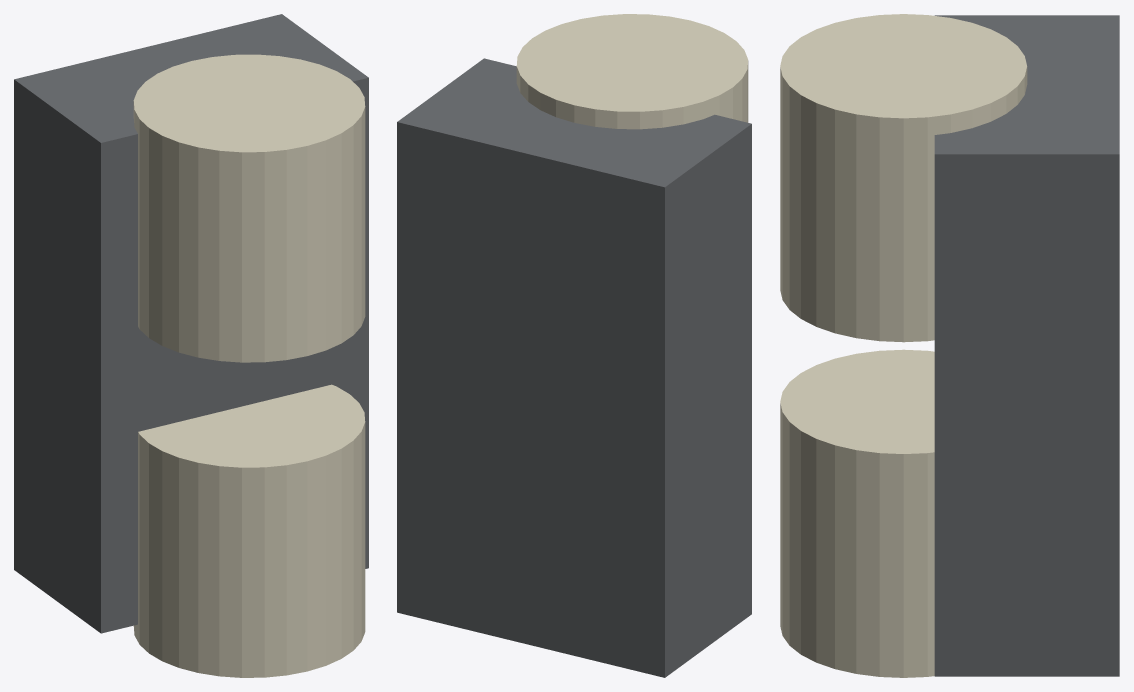
The model's file is wall-sconce-updown.glb.
The picture shows the model from 3 angles, left to right: view 1: azimuth 30°, elevation 25°; view 2: azimuth 150°, elevation 25°; view 3: azimuth 270°, elevation 25°; orthographic projection. The views are drawn at different scales.
Parts seen in each view (by area): view 1: wall-sconce-updown-0, wall-sconce-updown-1, wall-sconce-updown-2; view 2: wall-sconce-updown-0, wall-sconce-updown-1; view 3: wall-sconce-updown-0, wall-sconce-updown-1, wall-sconce-updown-2.
Boxes of the visible parts, left/top/right/bottom form: wall-sconce-updown-0: left=14, top=14, right=368, bottom=633; wall-sconce-updown-1: left=133, top=54, right=365, bottom=362; wall-sconce-updown-2: left=133, top=384, right=365, bottom=677; wall-sconce-updown-0: left=397, top=58, right=751, bottom=677; wall-sconce-updown-1: left=516, top=14, right=748, bottom=129; wall-sconce-updown-0: left=934, top=15, right=1119, bottom=676; wall-sconce-updown-1: left=780, top=14, right=1027, bottom=342; wall-sconce-updown-2: left=780, top=349, right=934, bottom=677.
Size of the model in its own units: 0.16 by 0.3 by 0.165.
